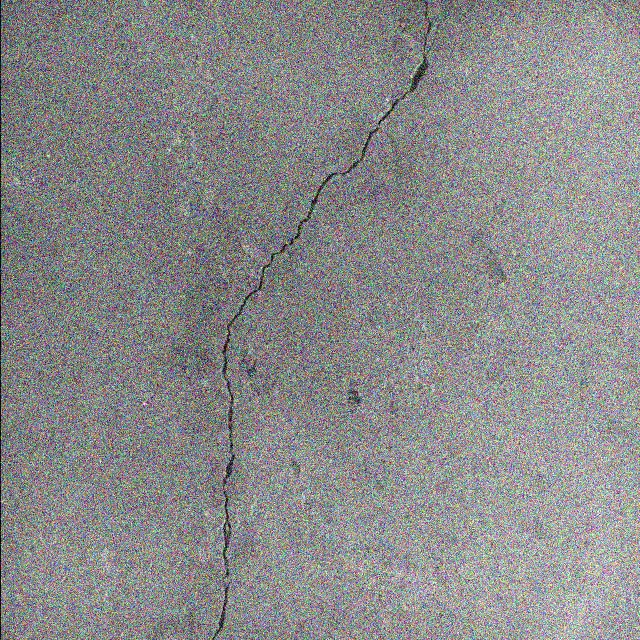SurfaceCrack: (183, 1, 476, 640)
